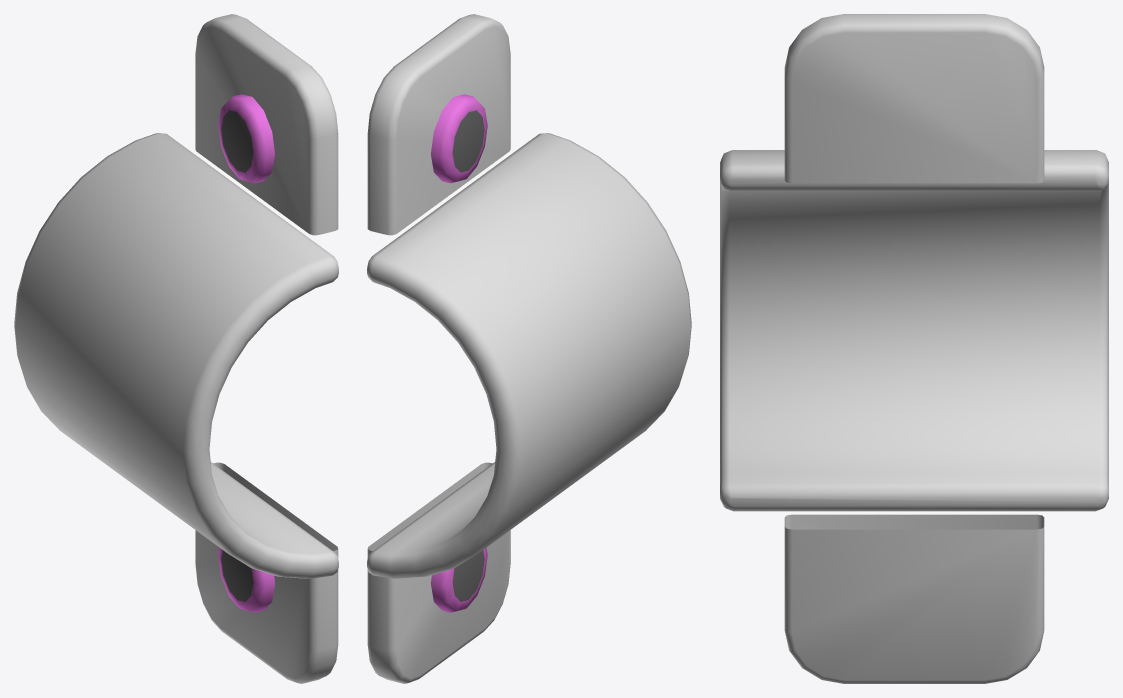
File: metal3.fbx
The picture shows the model from 3 angles, left to right: view 1: azimuth 30°, elevation 25°; view 2: azimuth 150°, elevation 25°; view 3: azimuth 270°, elevation 25°; orthographic projection. The views are drawn at different scales.
Visible parts, largest first — view 1: Cylinder.006; view 2: Cylinder.006; view 3: Cylinder.006.
Part boxes in pixels (x1,y1,x2,y2): Cylinder.006: (14,14,338,683); Cylinder.006: (367,14,691,683); Cylinder.006: (720,14,1108,683).
Bounding box in the file's own units: 39.01 × 125 × 66.76.
